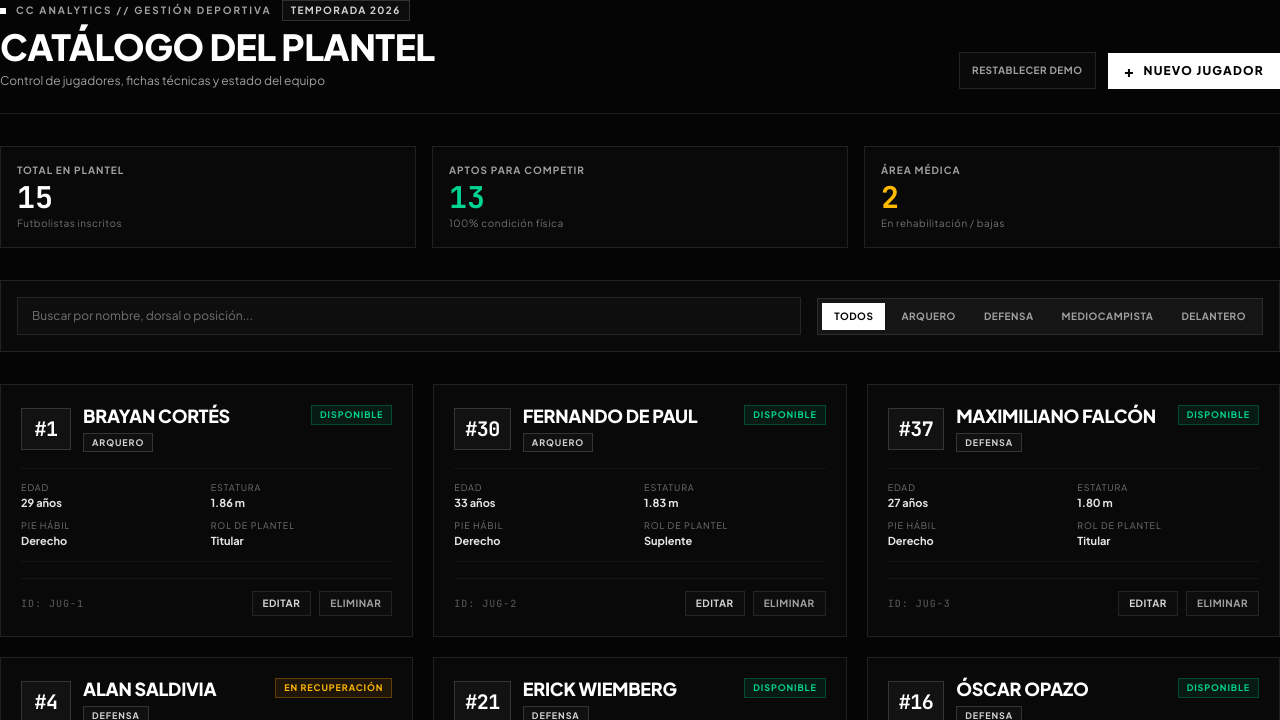
Test: Módulo de Plantel de Jugadores (Pantalla 3 - Integración CRUD) › filtra futbolistas por nombre o dorsal al escribir en la barra de busqueda
Type "Vidal" into the field with placeholder "Buscar por nombre, dorsal o posición..." at (409, 316), box [17,297,801,335]
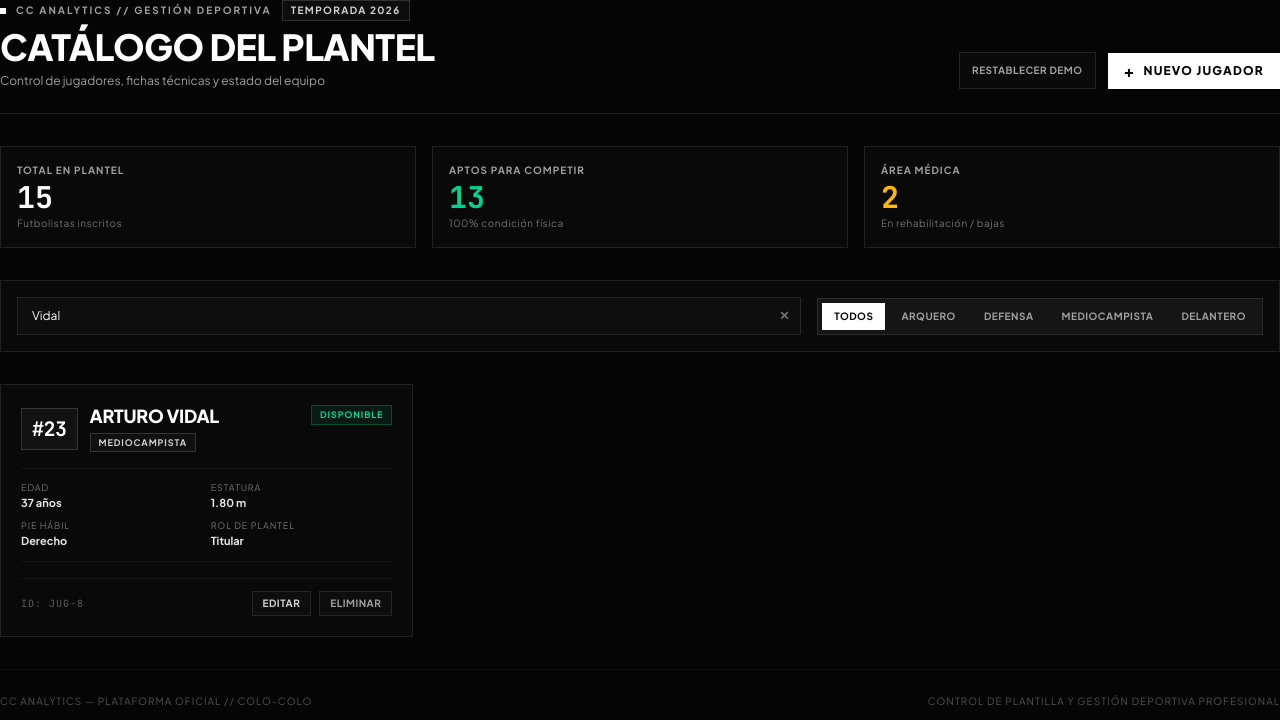
Expected: the heading "Arturo Vidal" is shown, [90,405,219,428]
Now the heading "Brayan Cortés" is gone
